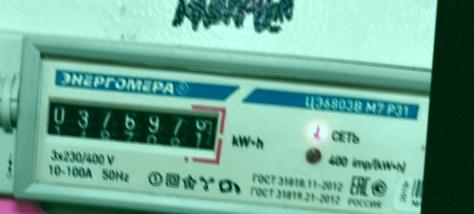0: (51, 102, 66, 123)
1: (192, 129, 204, 147)
3: (75, 106, 89, 127)
6: (122, 107, 136, 129)
7: (169, 113, 183, 136), (98, 106, 112, 128)
9: (146, 111, 159, 133)
screen: (36, 86, 230, 164)
